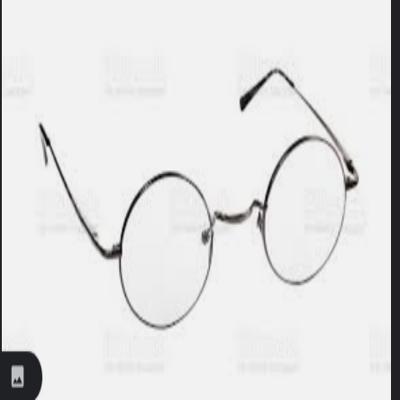glasses: (37, 65, 366, 330)
